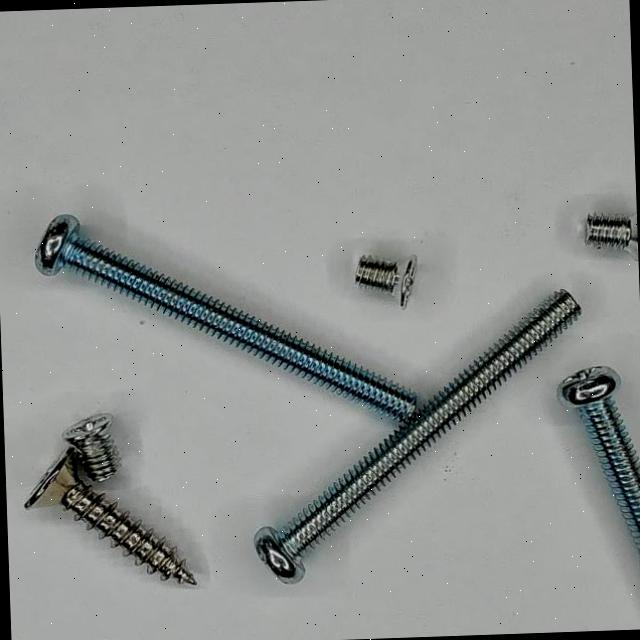Screw: (254, 290, 582, 584), (34, 214, 416, 421), (23, 448, 196, 585), (559, 366, 640, 552), (61, 414, 120, 481), (355, 254, 416, 308), (586, 211, 638, 258)
